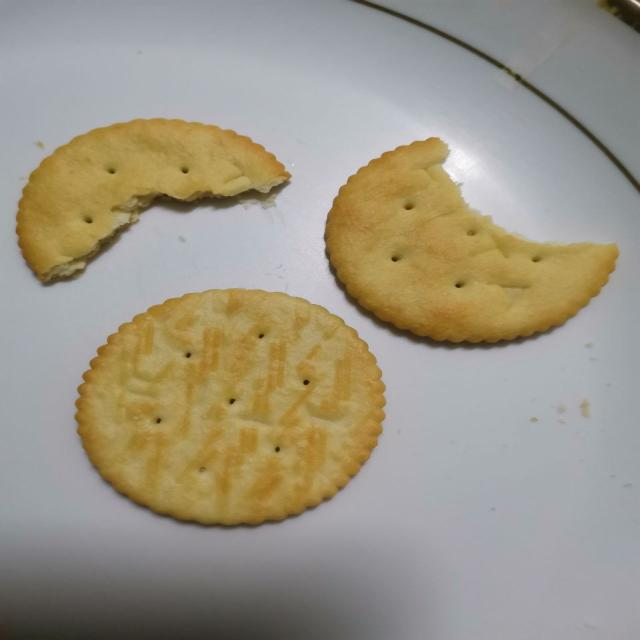broken biscuit: (322, 135, 620, 345), (14, 116, 292, 284)
intact biscuit: (73, 286, 388, 527)
